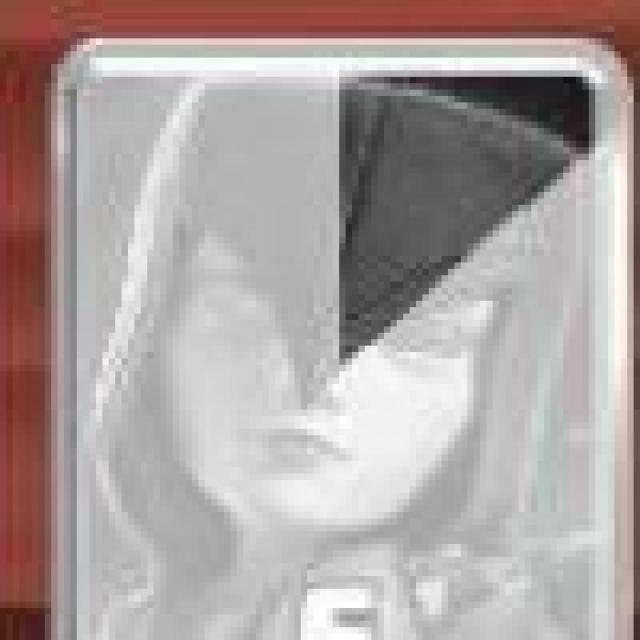Witch: (50, 45, 629, 640)
